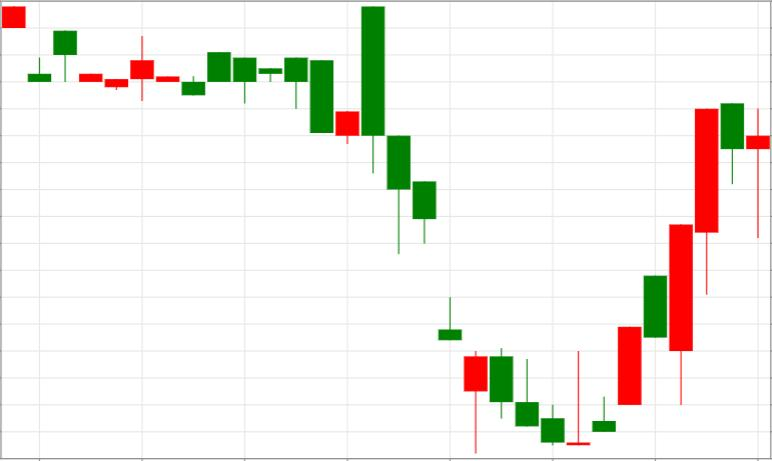hammer_rise: (361, 6, 488, 454)
